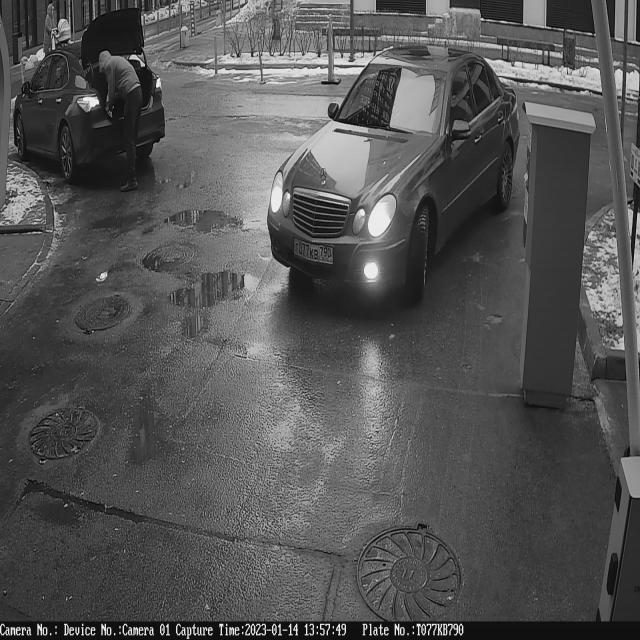car-plate-numbers: (292, 233, 337, 270)
